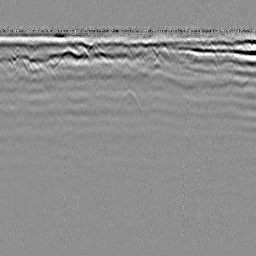cavity: (116, 87, 141, 112)
